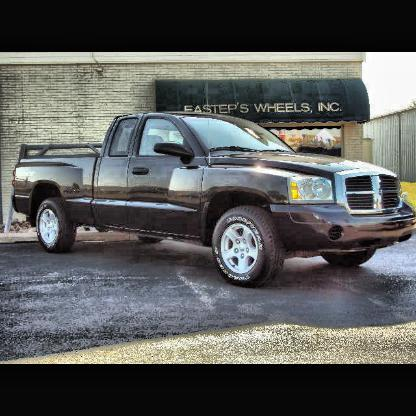Dodge Dakota Club Cab 2007: (12, 114, 416, 287)
